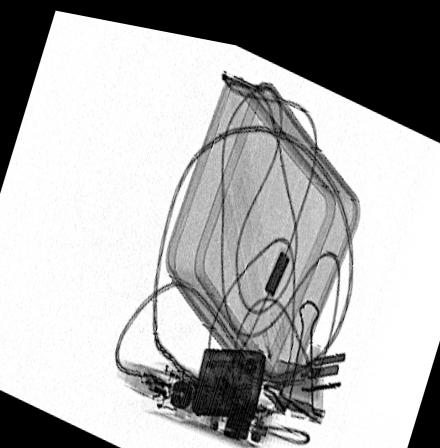Lighter: (189, 338, 266, 410)
